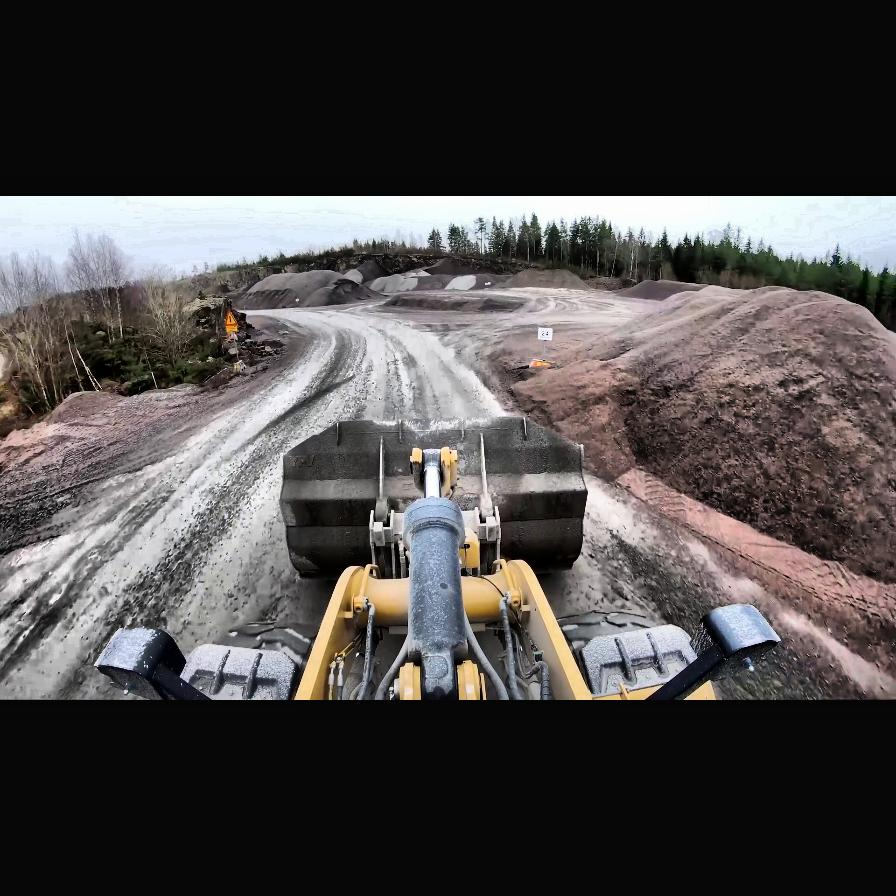anchor: (413, 446, 459, 498)
pile of gravel: (516, 276, 896, 586), (237, 269, 369, 309), (368, 266, 500, 294), (616, 278, 704, 302), (413, 256, 509, 278), (509, 268, 590, 290)
